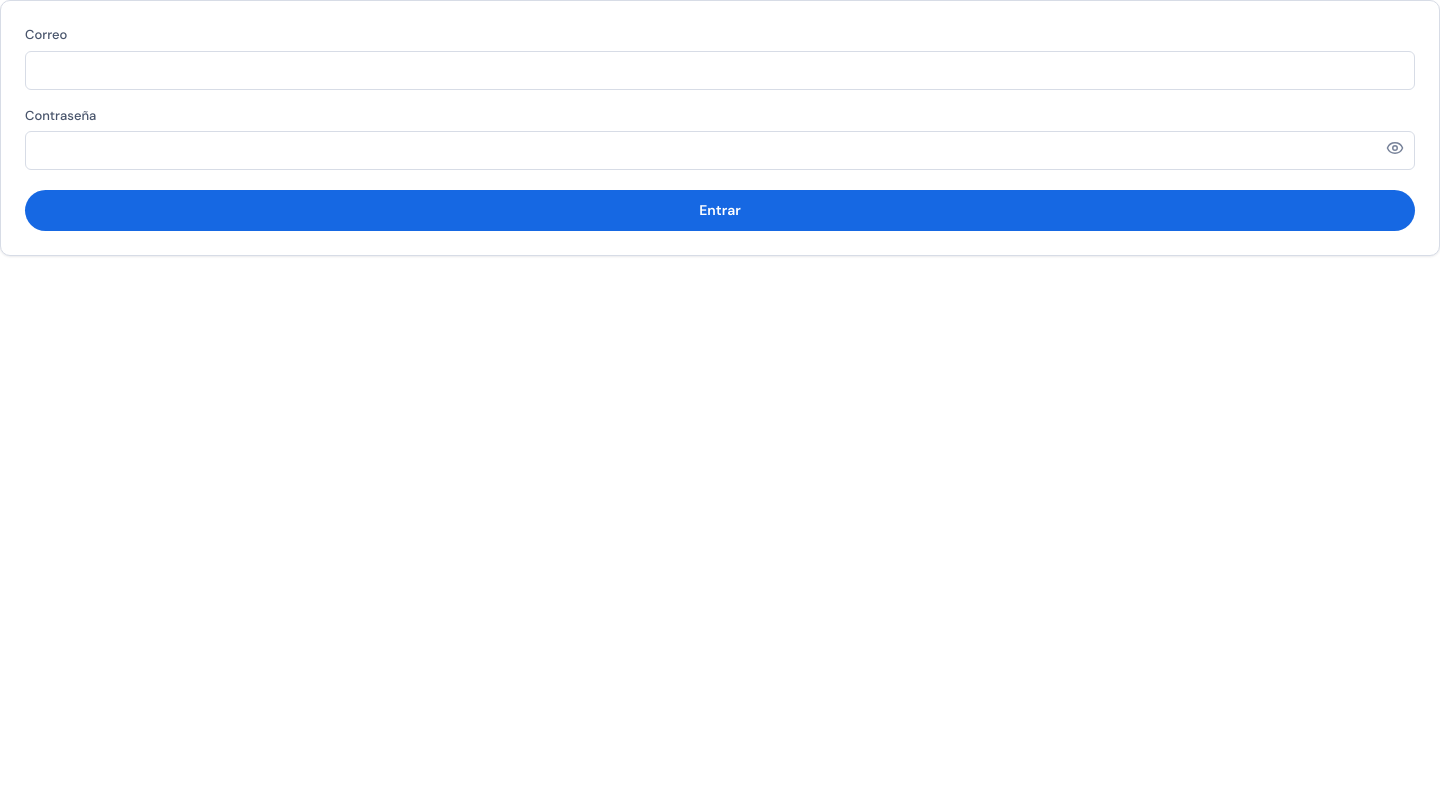
Test: LoginForm › keeps what was typed after a failed attempt (wrong credentials, lockout, API down)
The image size is (1440, 810).
Type "ana@corpsc.com" into the field labelled "Correo" at (720, 70), box [25,50,1415,90]
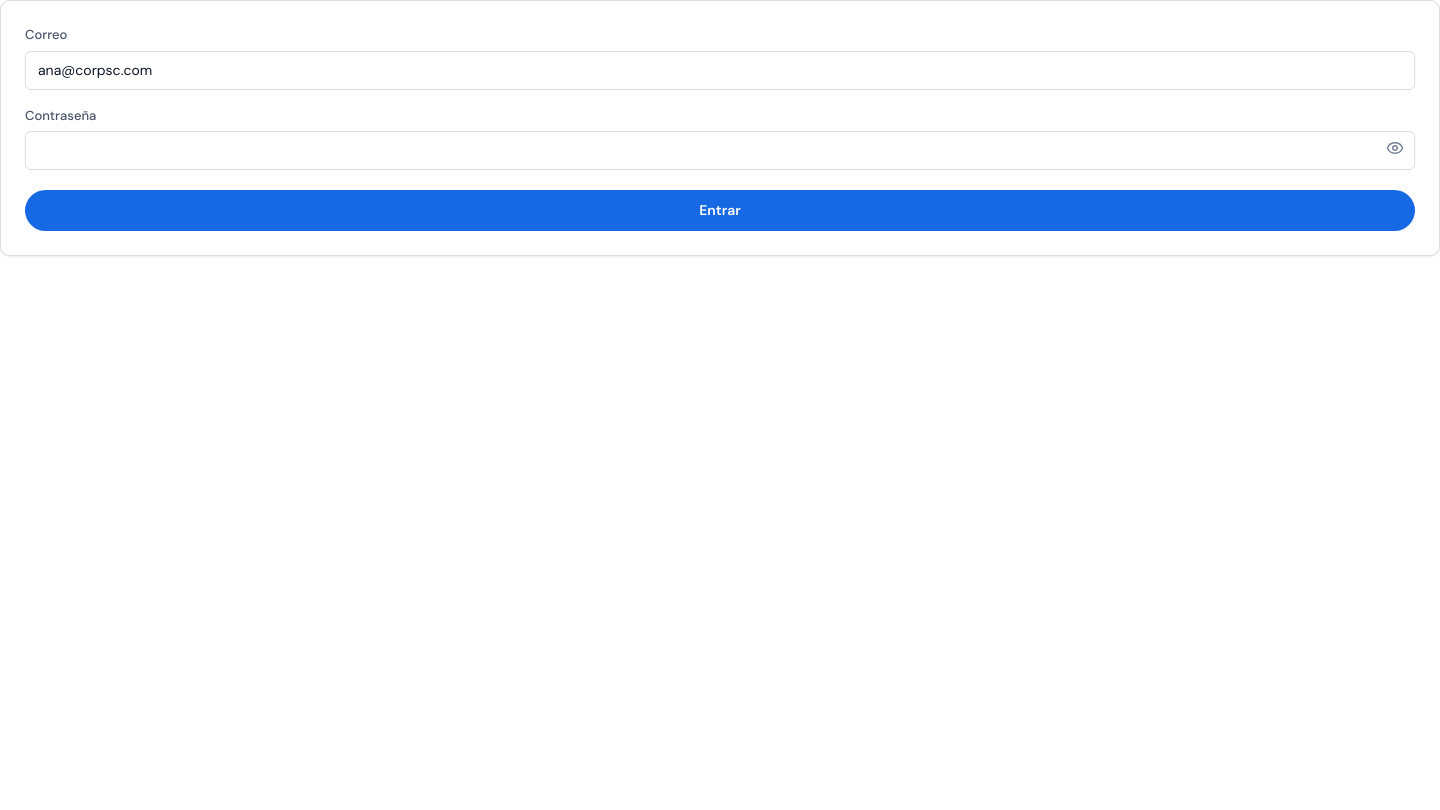
Type "lo-que-sea" into the password field labelled "Contraseña" at (720, 150), box [25,131,1415,170]
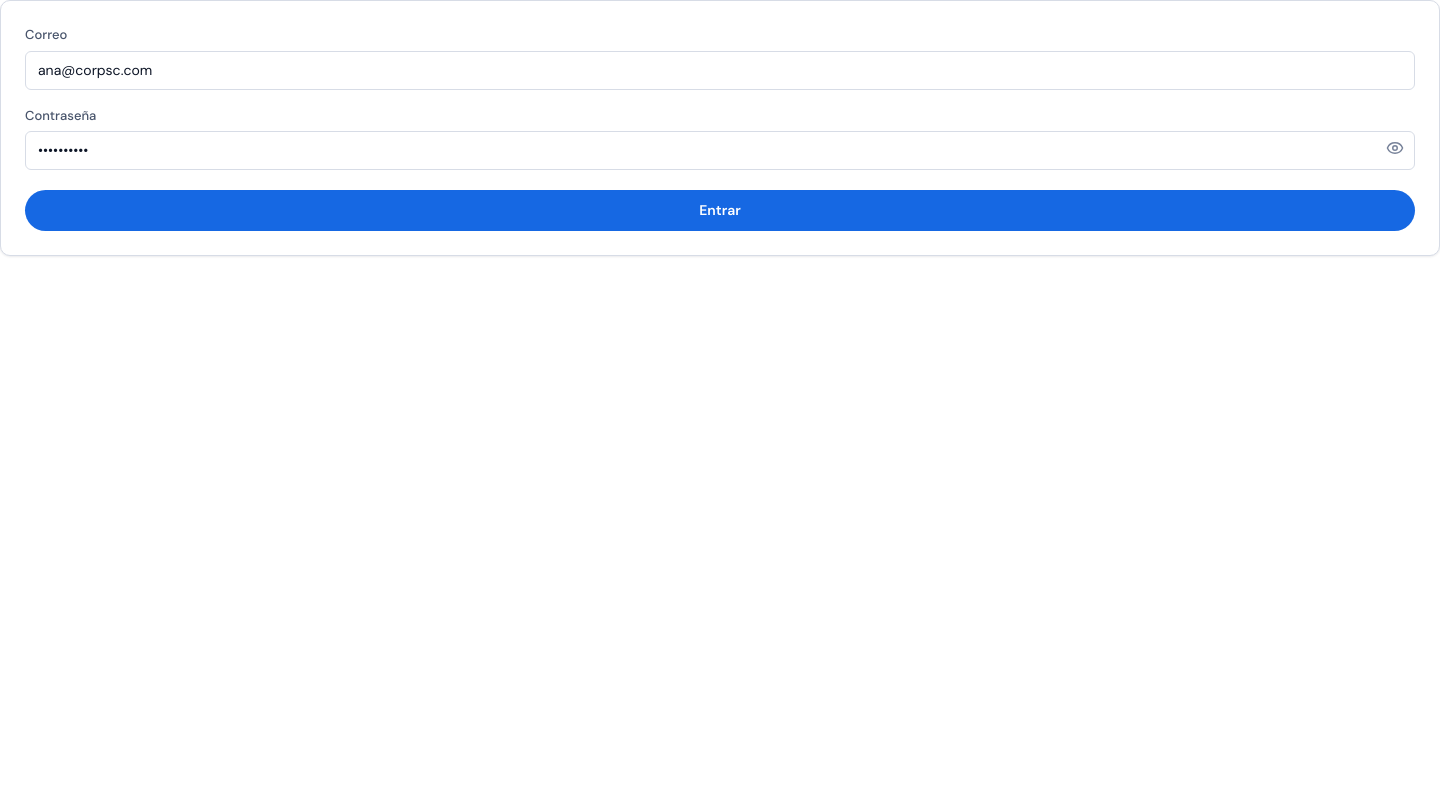
Click the button "Entrar" at (720, 210), box [25,190,1415,231]
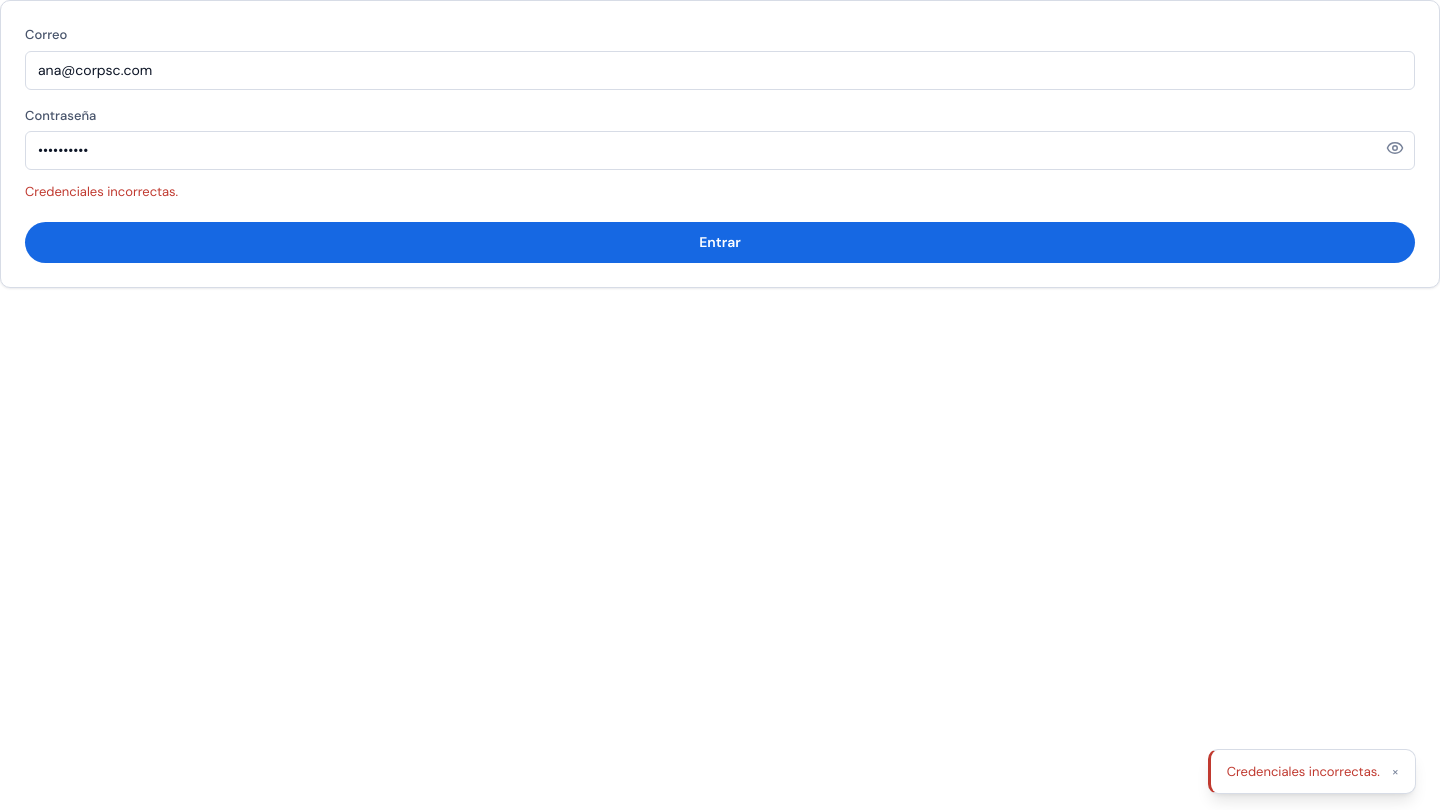
Result: the text "Credenciales incorrectas." is shown at [25,183,178,200]
